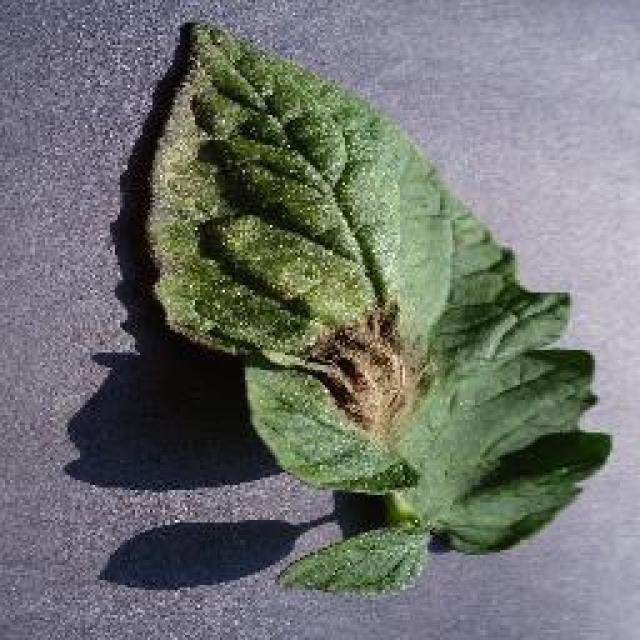Tomato Late Blight: (133, 43, 427, 435)
